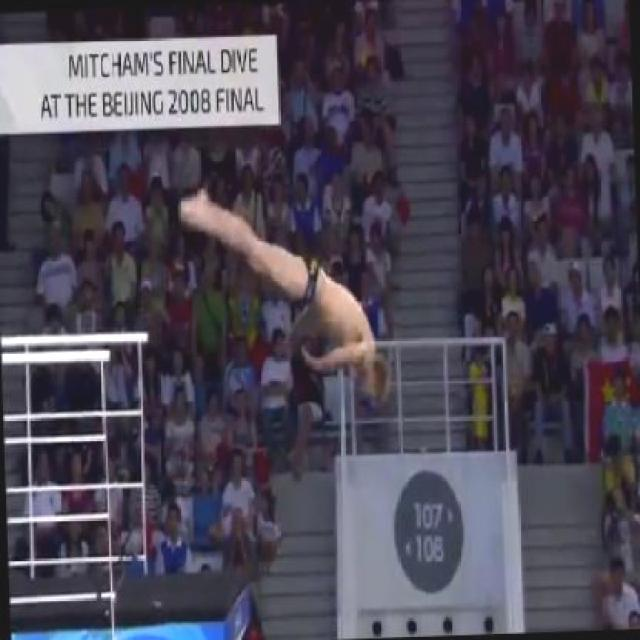non-fight: (175, 180, 392, 412)
